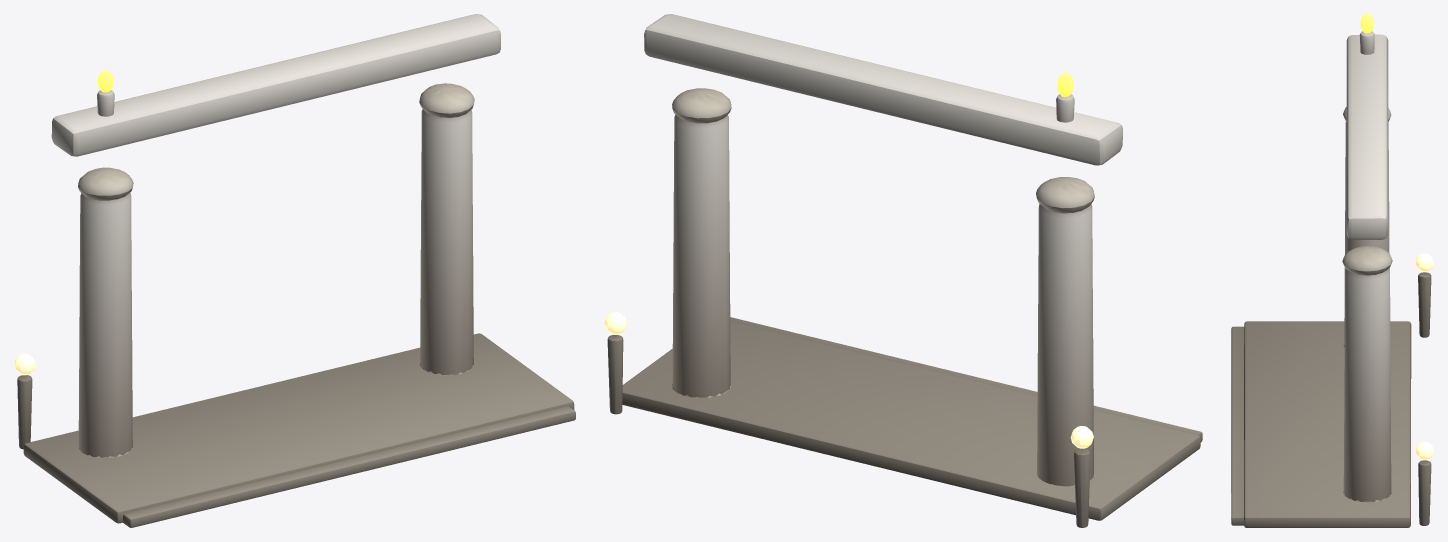
3 renders of one model, left to right at view 1: azimuth 30°, elevation 25°; view 2: azimuth 150°, elevation 25°; view 3: azimuth 270°, elevation 25°, orthographic. The views are drawn at different scales.
Parts seen in each view (by area): view 1: gate_2d43d9a4; view 2: gate_2d43d9a4; view 3: gate_2d43d9a4.
Part boxes in pixels (x1=…): gate_2d43d9a4: x1=14, y1=14, x2=575, y2=527; gate_2d43d9a4: x1=604, y1=14, x2=1202, y2=527; gate_2d43d9a4: x1=1231, y1=14, x2=1433, y2=527.
Bounding box in the file's own units: 5.86 × 4.77 × 2.55.
